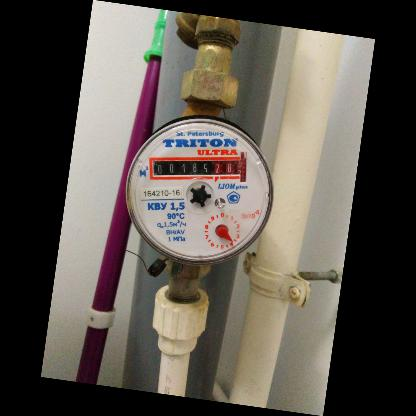digital_screen: (147, 157, 211, 179)
